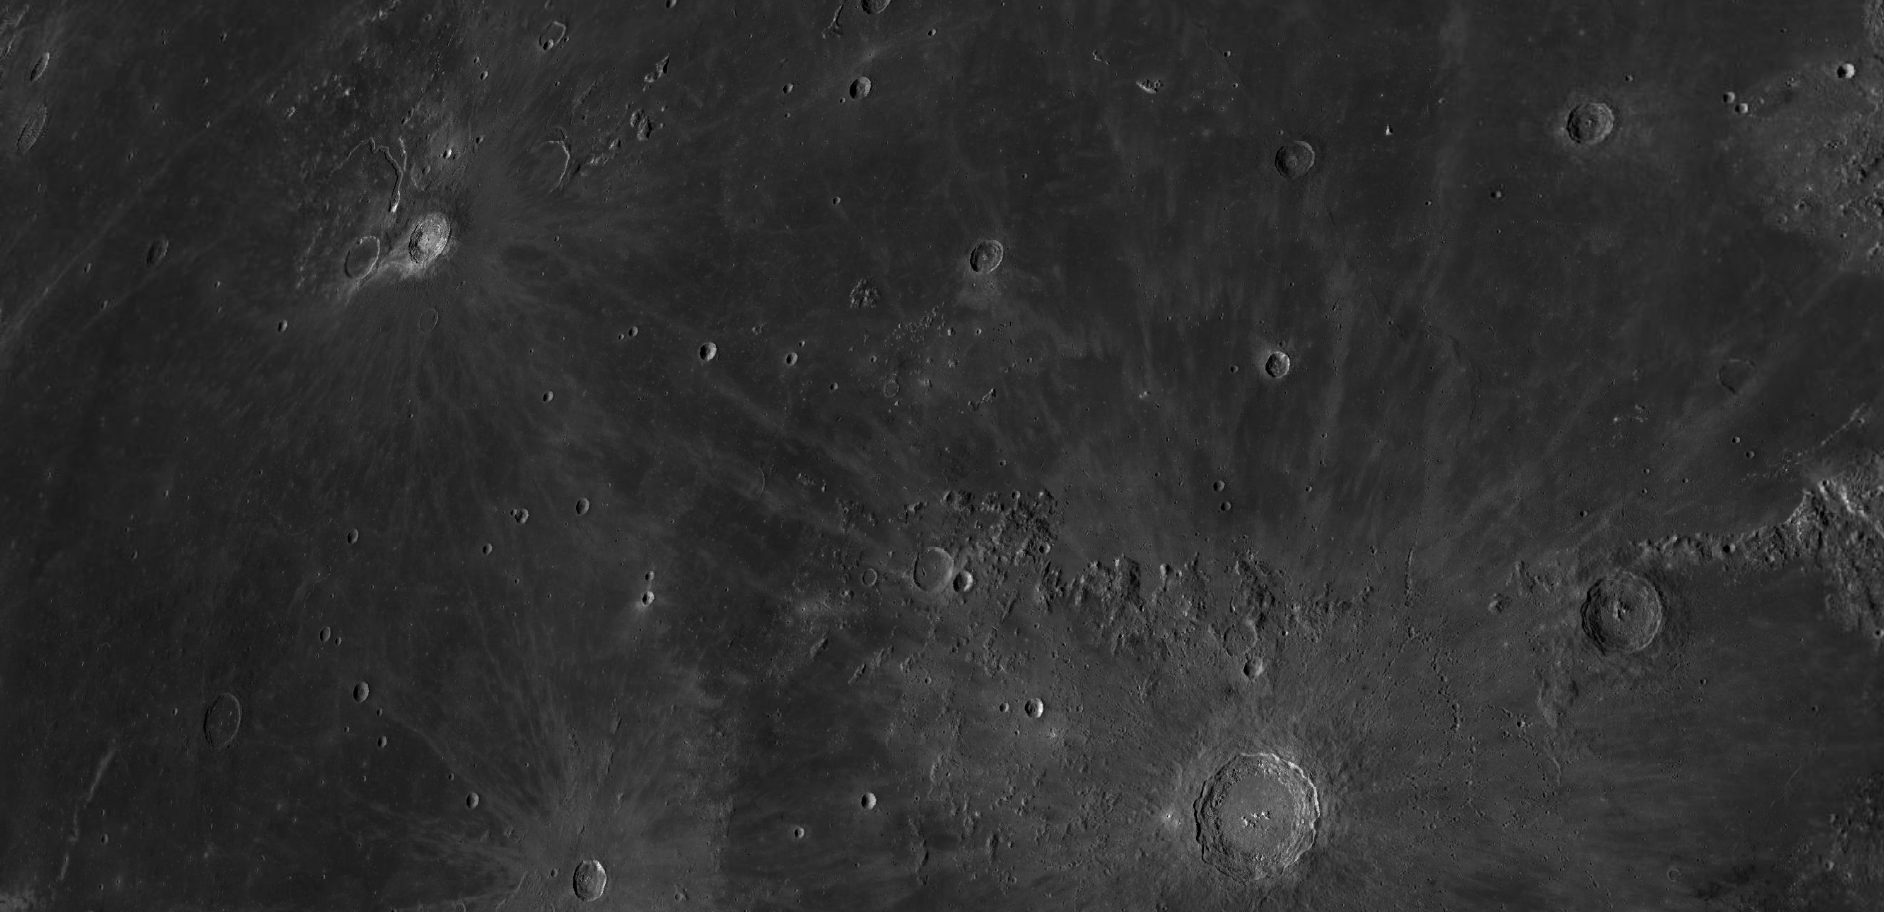crater: (1016, 610, 1520, 904), (1520, 511, 1734, 729), (485, 719, 729, 907), (123, 191, 254, 362), (175, 637, 294, 795), (1531, 55, 1673, 178), (1221, 306, 1347, 427), (928, 199, 1059, 306), (1245, 117, 1383, 211), (661, 292, 750, 437), (821, 48, 936, 143), (394, 204, 485, 315), (305, 199, 390, 311), (13, 32, 87, 99)
